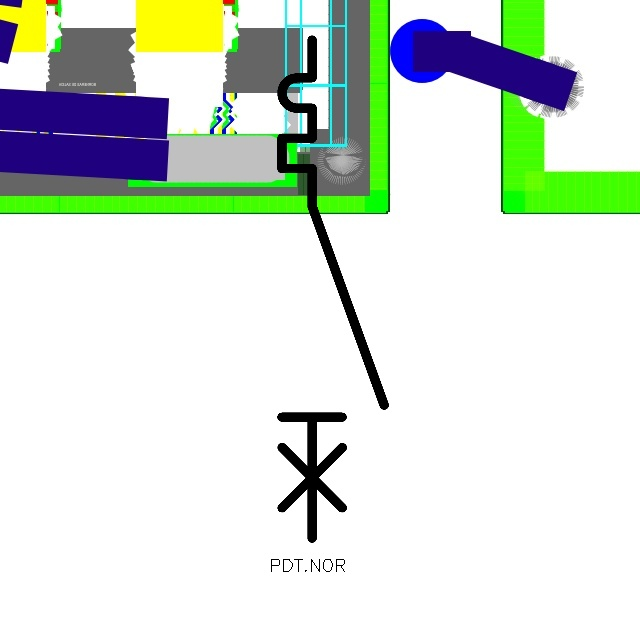interruptor_termomagnetico: (269, 27, 397, 551)
